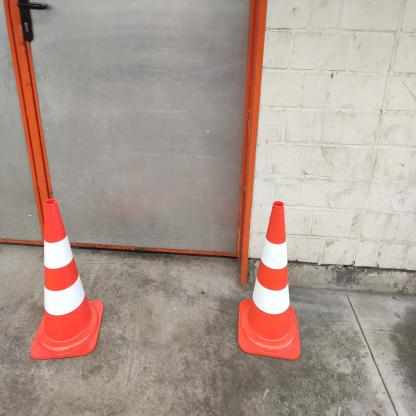Cones_big: (223, 184, 314, 379), (16, 197, 114, 375)
